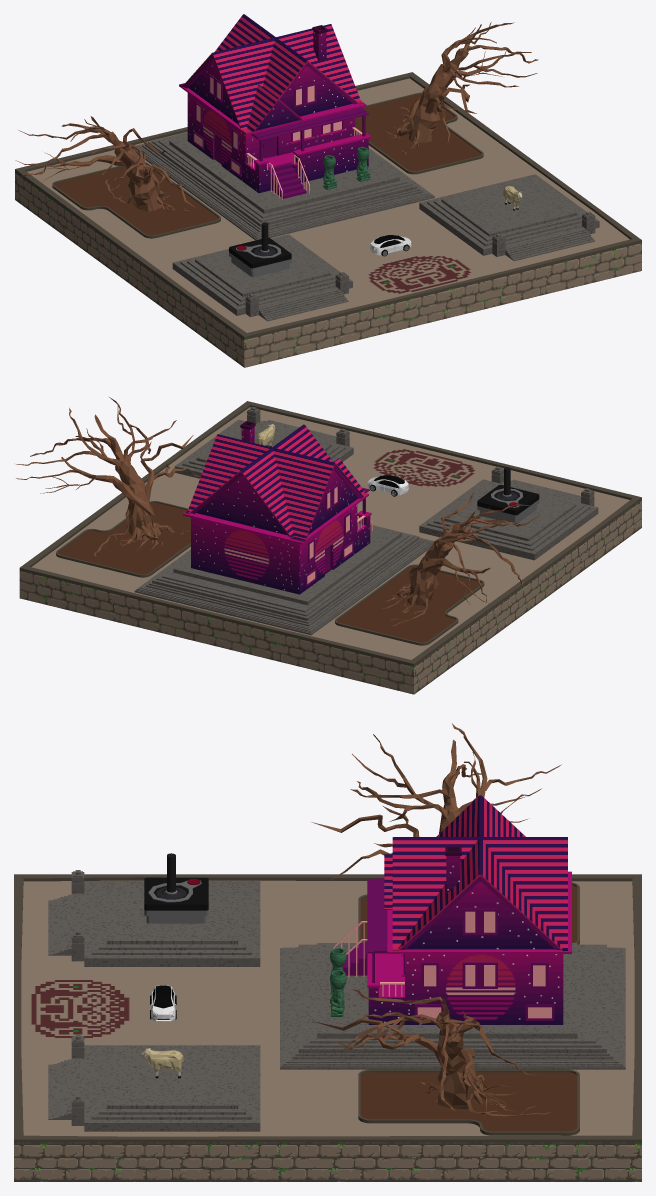
3 views of the same model, one above another, from view 1: azimuth 30°, elevation 25°; view 2: azimuth 150°, elevation 25°; view 3: azimuth 270°, elevation 25° (orthographic). The views are drawn at different scales.
Visible parts, largest first — view 1: Cube.011, Cube.156, OBJRANDOM_JOYSTICK, VEHICLES_TESLA; view 2: Cube.011, Cube.156, OBJRANDOM_JOYSTICK, VEHICLES_TESLA; view 3: Cube.011, Cube.156, OBJRANDOM_JOYSTICK, VEHICLES_TESLA, ANIMAL_OVEJA.
Part boxes in pixels (box(x1,y1,x2,y2)): Cube.011: box(15, 22, 641, 367); Cube.156: box(179, 14, 371, 199); OBJRANDOM_JOYSTICK: box(229, 222, 291, 277); VEHICLES_TESLA: box(370, 235, 411, 256); Cube.011: box(14, 397, 641, 694); Cube.156: box(183, 421, 372, 594); OBJRANDOM_JOYSTICK: box(477, 467, 539, 523); VEHICLES_TESLA: box(367, 475, 408, 496); Cube.011: box(14, 723, 641, 1181); Cube.156: box(333, 795, 571, 1024); OBJRANDOM_JOYSTICK: box(144, 853, 208, 923); VEHICLES_TESLA: box(150, 985, 176, 1021); ANIMAL_OVEJA: box(141, 1048, 183, 1078).
Bounding box in the file's own units: 5099 × 1610 × 4000.
35 materials, 8 textured.
